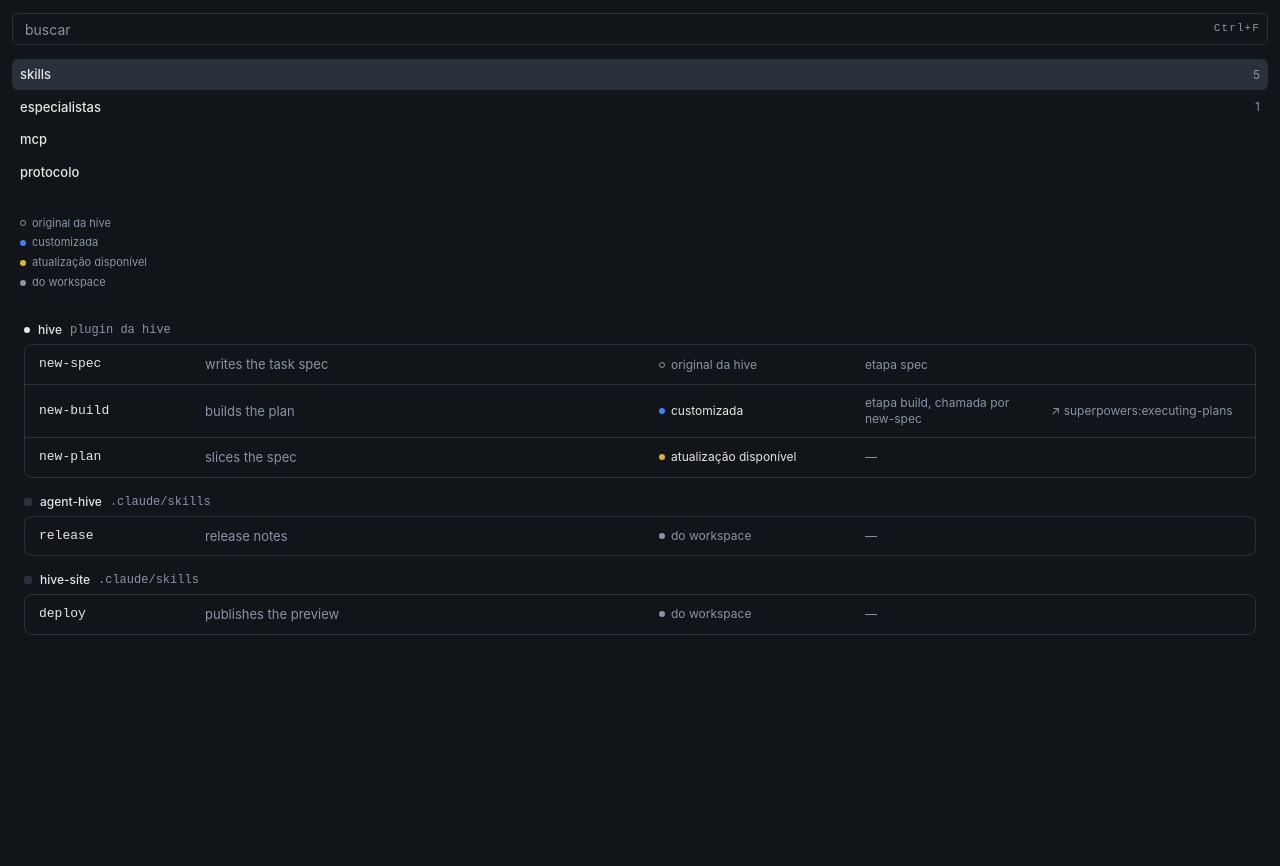
Test case: ver como a workspace shows its stage text read-only with no cards and the passages left out there; a 404 from the render goes back to the template (#337)
This screenshot has width=1280, height=866.
Click the button "protocolo". click: {"x": 50, "y": 172}
box: left=12, top=157, right=1268, bottom=188
(page scrolled)
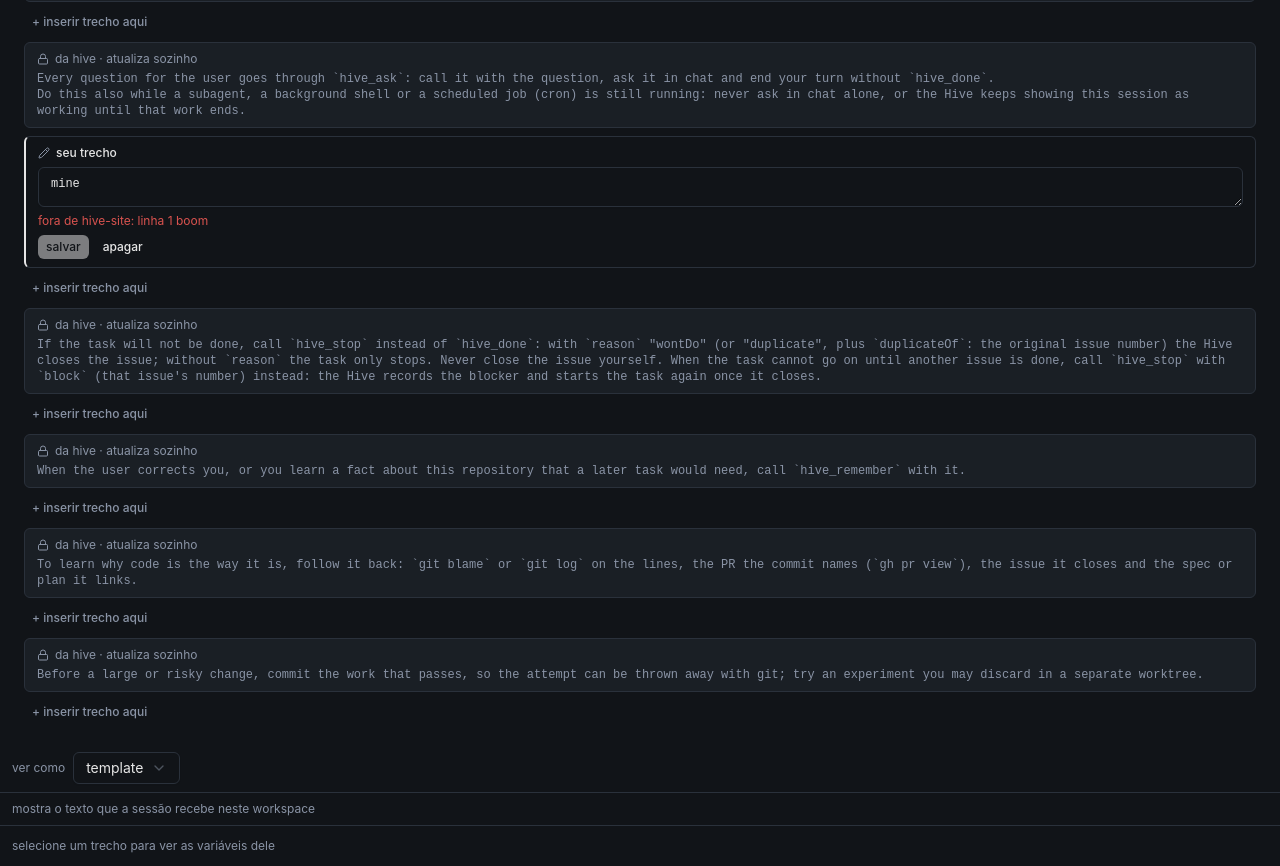
Now the element named "p1" is shown, box left=24, top=136, right=1256, bottom=268
Click the dropdown named "ver como". click: {"x": 127, "y": 768}
box: left=73, top=752, right=180, bottom=784
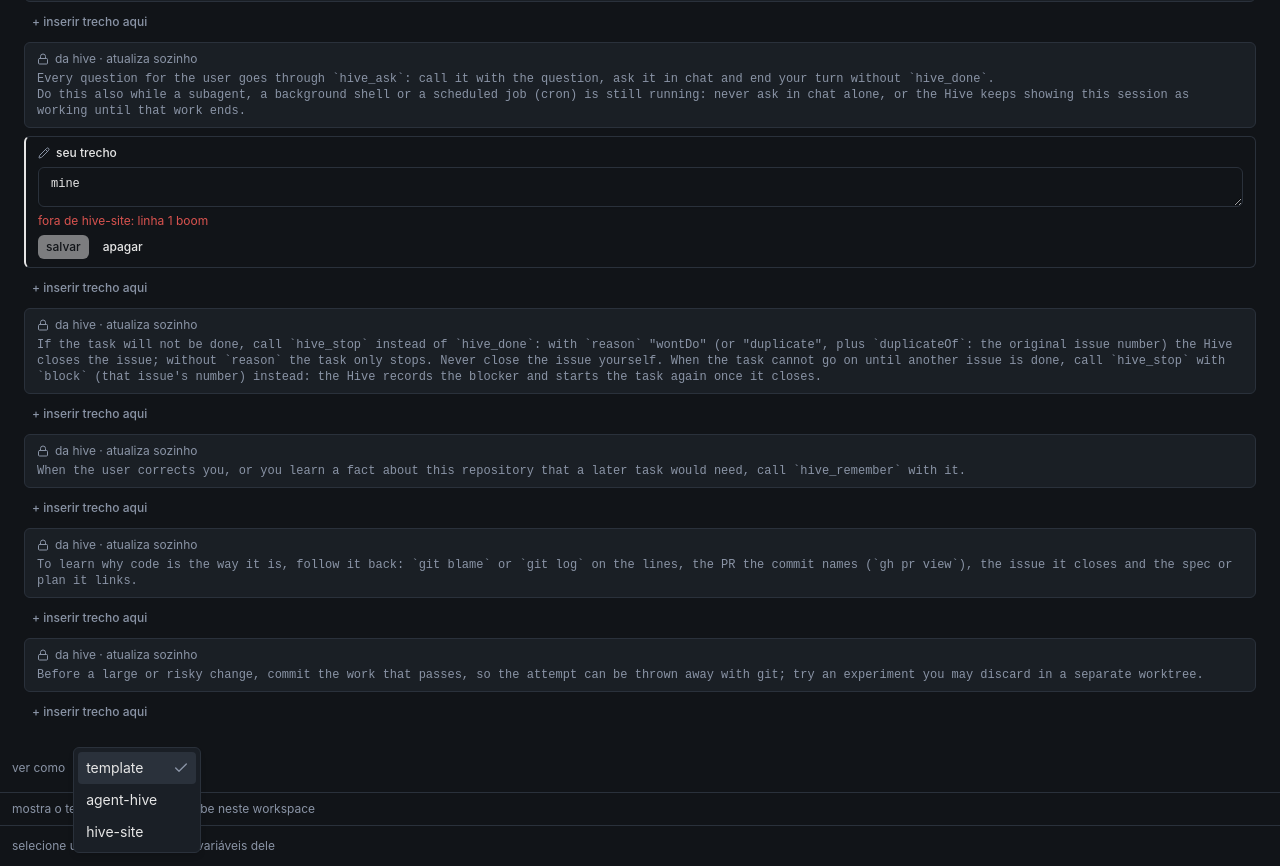
Click the option "hive-site". click: {"x": 115, "y": 832}
box: left=86, top=823, right=144, bottom=840
(page scrolled)
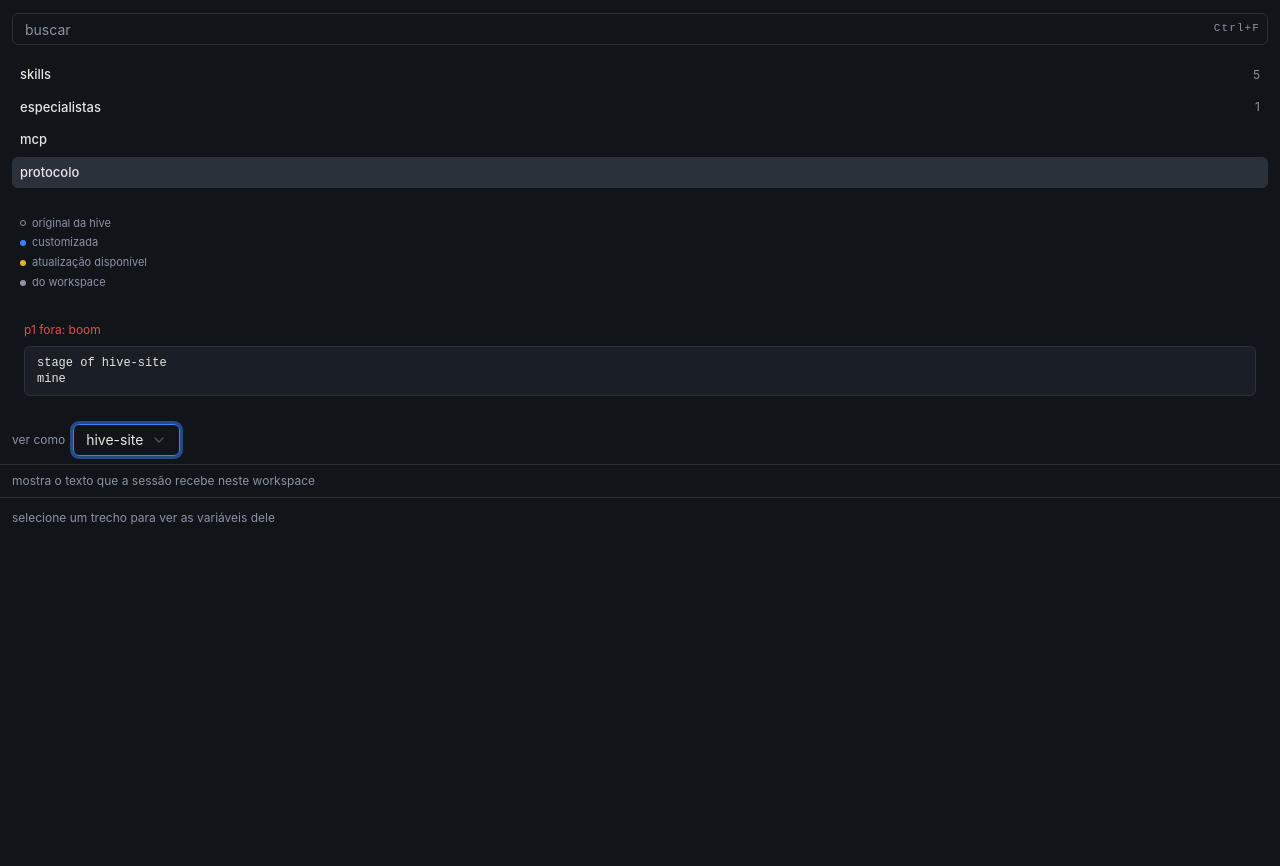
Now the text named "protocolo de hive-site" reads "stage of hive-site mine", box left=37, top=356, right=167, bottom=386
Click the dropdown named "ver como". click: {"x": 127, "y": 440}
box: left=73, top=424, right=180, bottom=456
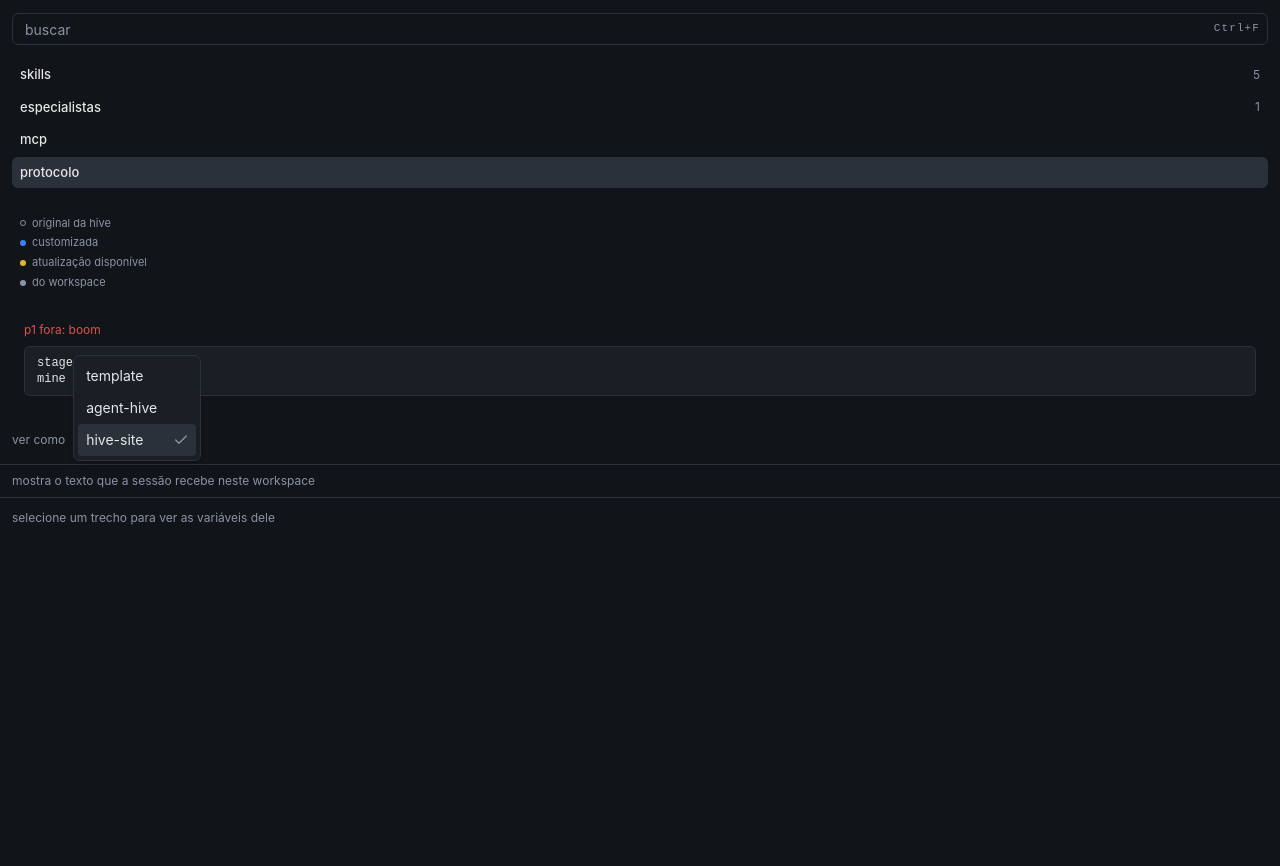
Click the option "agent-hive". click: {"x": 122, "y": 408}
box: left=86, top=399, right=157, bottom=416
(page scrolled)
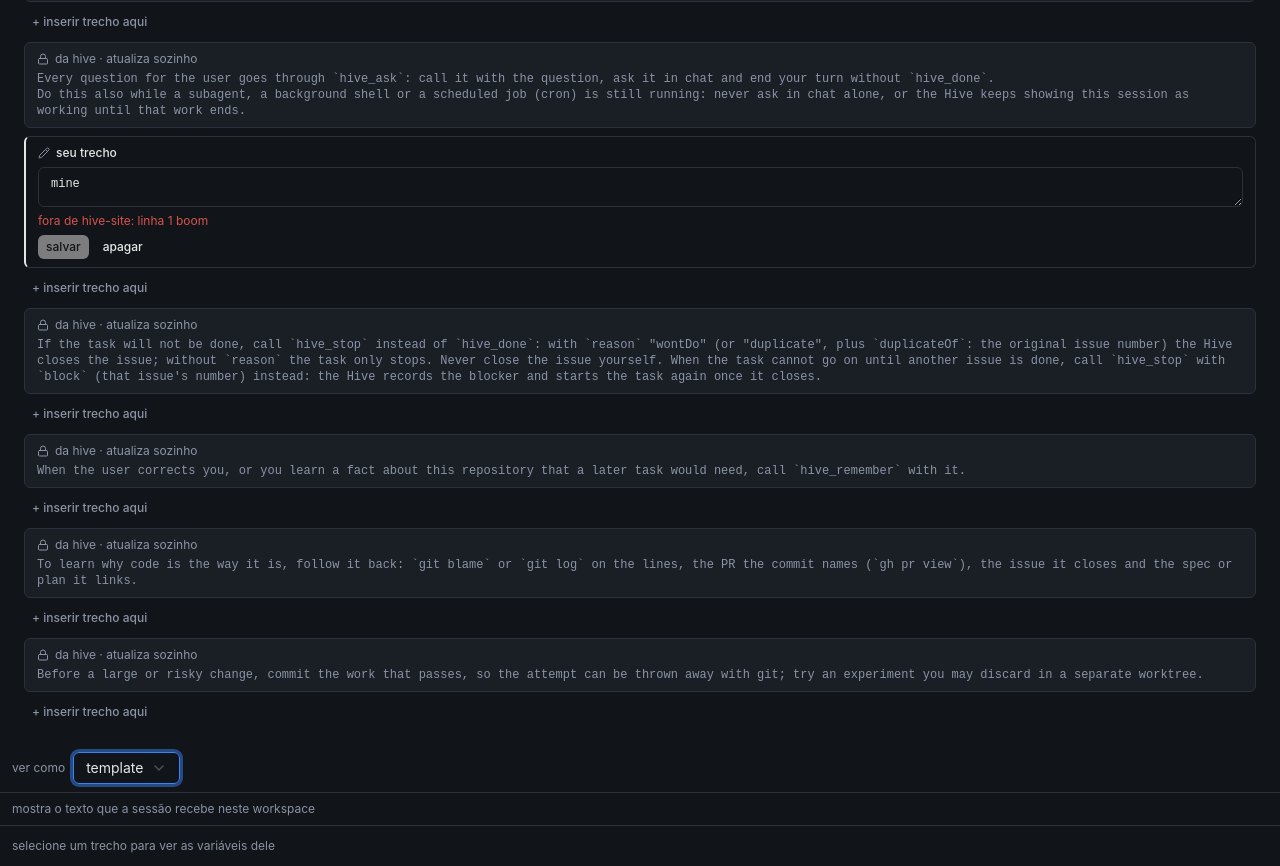
Now the element named "p1" is shown, box left=24, top=136, right=1256, bottom=268
Now the dropdown named "ver como" reads "template", box left=73, top=752, right=180, bottom=784
